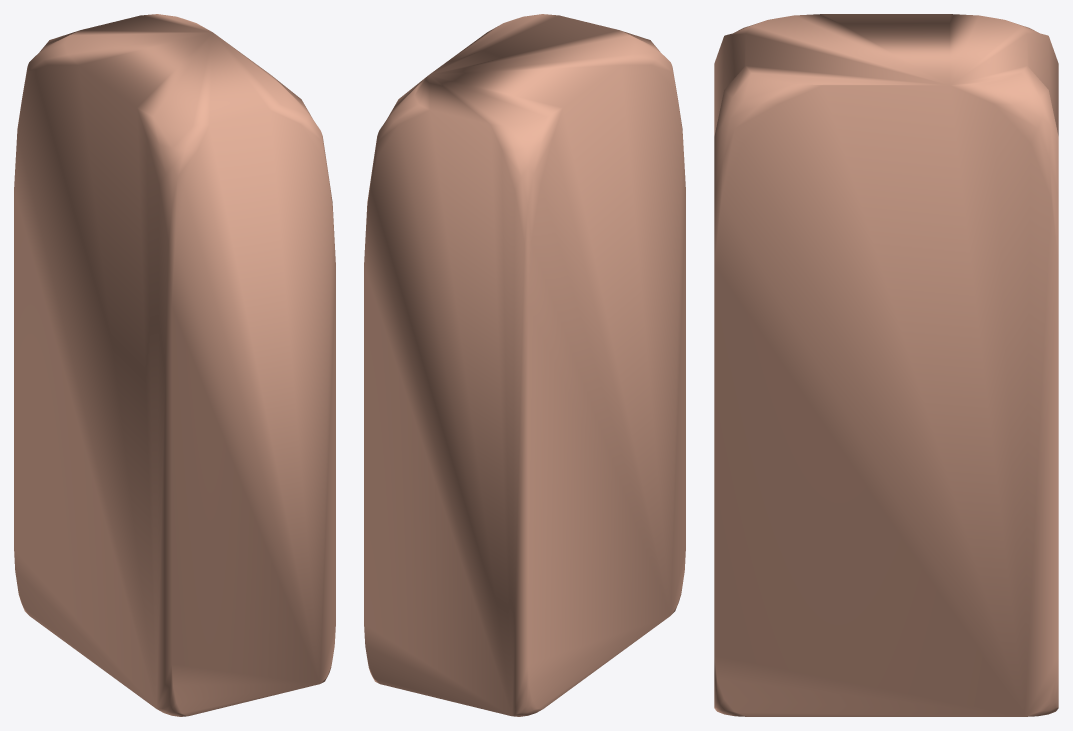
File: eraser.fbx
3 renders of one model, left to right at view 1: azimuth 30°, elevation 25°; view 2: azimuth 150°, elevation 25°; view 3: azimuth 270°, elevation 25°, orthographic. The views are drawn at different scales.
Parts seen in each view (by area): view 1: Cube; view 2: Cube; view 3: Cube.
Boxes of the visible parts, box(x1,y1,x2,y2) form: Cube: box(14, 14, 335, 716); Cube: box(364, 14, 685, 716); Cube: box(714, 14, 1058, 716).
Bounding box in the file's own units: 1.5 × 5 × 2.5.
